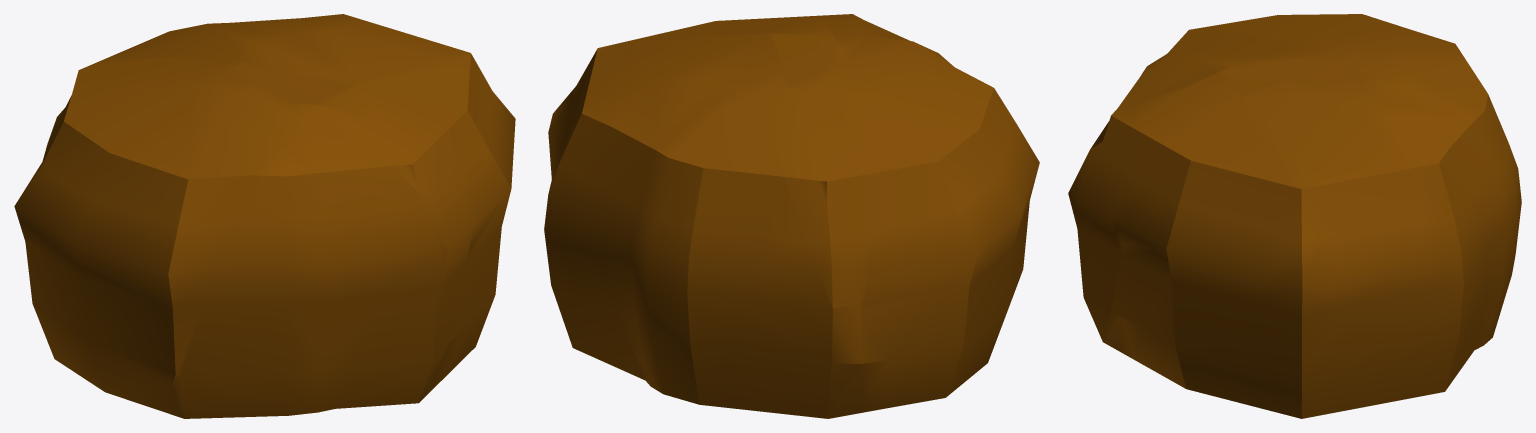
The model's file is Rock.fbx.
3 views of the same model, side by side, from view 1: azimuth 30°, elevation 25°; view 2: azimuth 150°, elevation 25°; view 3: azimuth 270°, elevation 25° (orthographic). The views are drawn at different scales.
Visible parts, largest first — view 1: polySurface46; view 2: polySurface46; view 3: polySurface46.
Boxes of the visible parts, x1=… form: polySurface46: x1=14, y1=14, x2=515, y2=418; polySurface46: x1=544, y1=14, x2=1039, y2=418; polySurface46: x1=1068, y1=14, x2=1521, y2=418.
Bounding box in the file's own units: 4.34 × 2.34 × 3.83.
